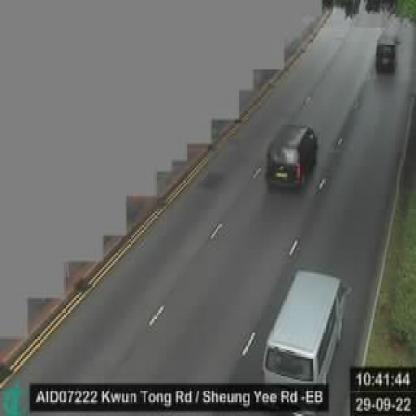Car: (251, 267, 353, 411), (262, 120, 314, 190), (372, 17, 400, 80)
